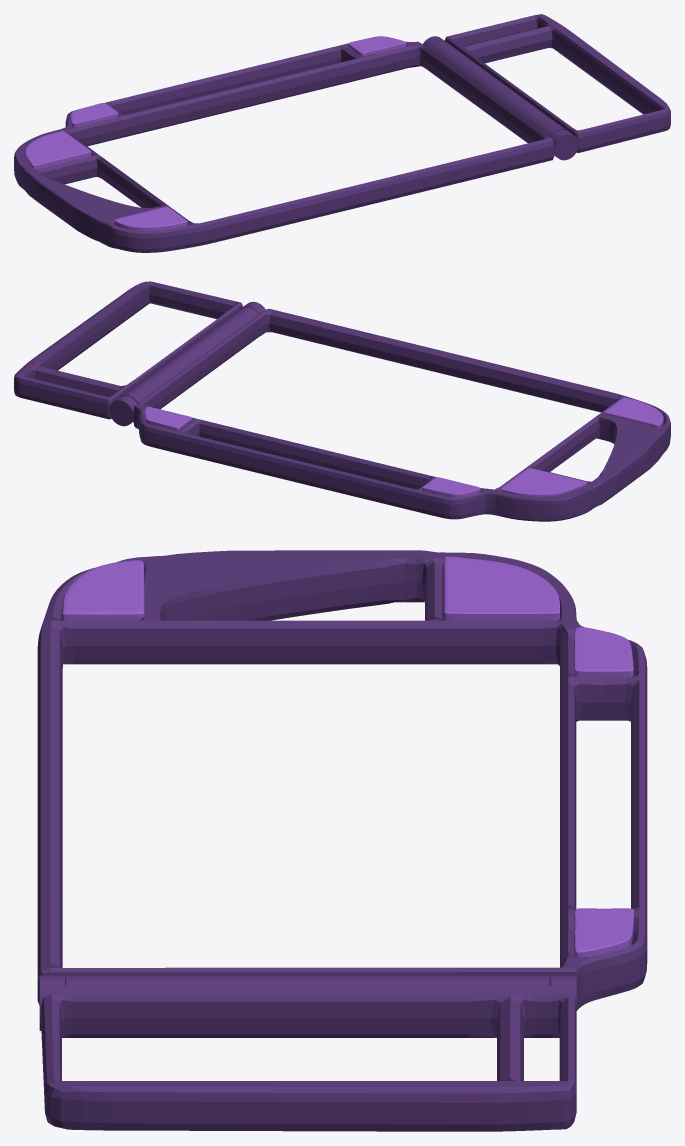
The model's file is Tablet_Model_2.fbx.
3 renders of one model, top to bottom at view 1: azimuth 30°, elevation 25°; view 2: azimuth 150°, elevation 25°; view 3: azimuth 270°, elevation 25°, orthographic. The views are drawn at different scales.
Parts seen in each view (by area): view 1: TabletBody, TabletSide, Pillar, Button_ST, Button_SB, Button_TR, Button_TL; view 2: TabletBody, TabletSide, Pillar, Button_ST, Button_SB, Button_TL, Button_TR; view 3: TabletBody, TabletSide, Pillar, Button_ST, Button_SB, Button_TR, Button_TL.
Part boxes in pixels (<box>): TabletBody: <box>14,41,554,252</box>; TabletSide: <box>444,14,670,152</box>; Pillar: <box>423,36,578,160</box>; Button_ST: <box>25,131,91,169</box>; Button_SB: <box>114,206,187,230</box>; Button_TR: <box>348,36,406,56</box>; Button_TL: <box>70,103,118,127</box>; TabletBody: <box>133,308,670,521</box>; TabletSide: <box>14,281,242,419</box>; Pillar: <box>109,301,265,426</box>; Button_ST: <box>500,468,586,496</box>; Button_SB: <box>604,397,663,428</box>; Button_TL: <box>422,477,480,497</box>; Button_TR: <box>145,406,192,430</box>; TabletBody: <box>37,550,647,1010</box>; TabletSide: <box>41,994,576,1131</box>; Pillar: <box>39,974,576,1030</box>; Button_ST: <box>444,556,559,620</box>; Button_SB: <box>62,560,144,620</box>; Button_TR: <box>574,908,633,957</box>; Button_TL: <box>574,627,633,676</box>.
Bounding box in the file's own units: 955 × 43.53 × 453.
